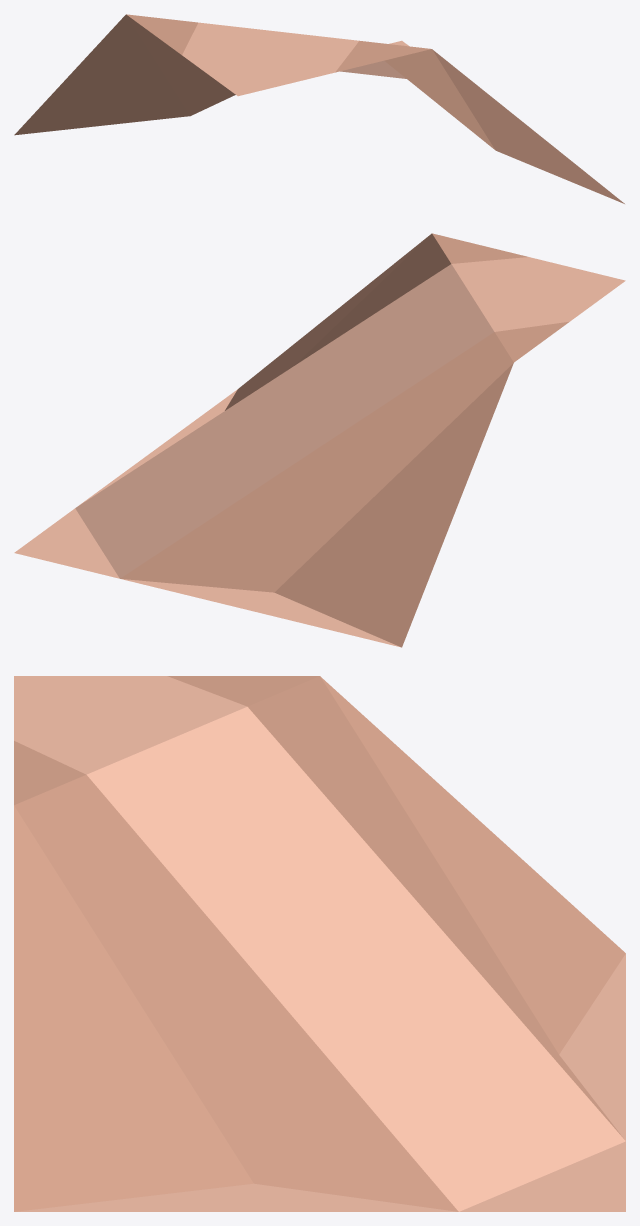
Rendered from TerrainCornerRamp.fbx.
3 views of the same model, one above another, from view 1: azimuth 30°, elevation 25°; view 2: azimuth 150°, elevation 25°; view 3: azimuth 270°, elevation 25° (orthographic). The views are drawn at different scales.
Visible parts, largest first — view 1: terrain_sideCorner.448; view 2: terrain_sideCorner.448; view 3: terrain_sideCorner.448.
Boxes of the visible parts, x1,y1,x2,y2 form: terrain_sideCorner.448: (14, 14, 624, 203); terrain_sideCorner.448: (14, 233, 625, 647); terrain_sideCorner.448: (14, 676, 625, 1211).
Size of the model in its own units: 100 by 50 by 100.
